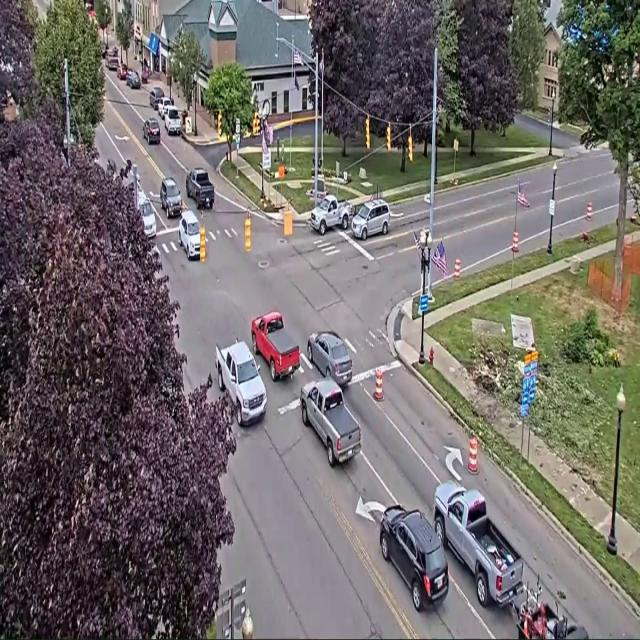car: (380, 505, 449, 610), (307, 331, 352, 385), (352, 200, 390, 239), (179, 210, 200, 259), (137, 190, 157, 238), (160, 178, 181, 217), (164, 105, 181, 135), (143, 118, 160, 143), (157, 96, 173, 119), (149, 87, 164, 110), (127, 70, 141, 88), (106, 52, 119, 71), (117, 64, 128, 80), (141, 67, 149, 83)
traffic signal: (245, 212, 251, 252), (408, 133, 413, 162), (253, 112, 259, 135), (366, 117, 370, 149), (387, 124, 391, 151), (217, 112, 221, 136)
truck: (434, 481, 523, 607), (300, 379, 360, 466), (216, 342, 266, 425), (517, 582, 588, 639), (251, 312, 300, 381), (310, 195, 352, 235), (186, 168, 214, 207)
